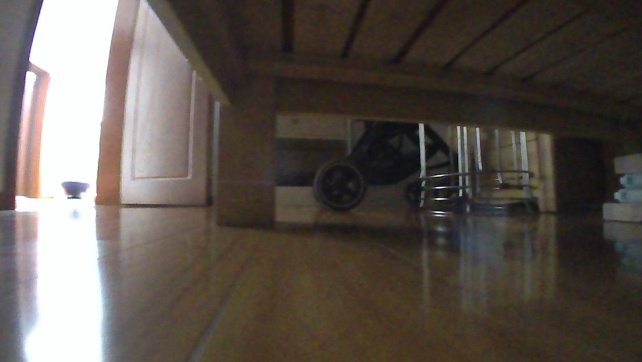door_anno: (89, 0, 214, 209)
